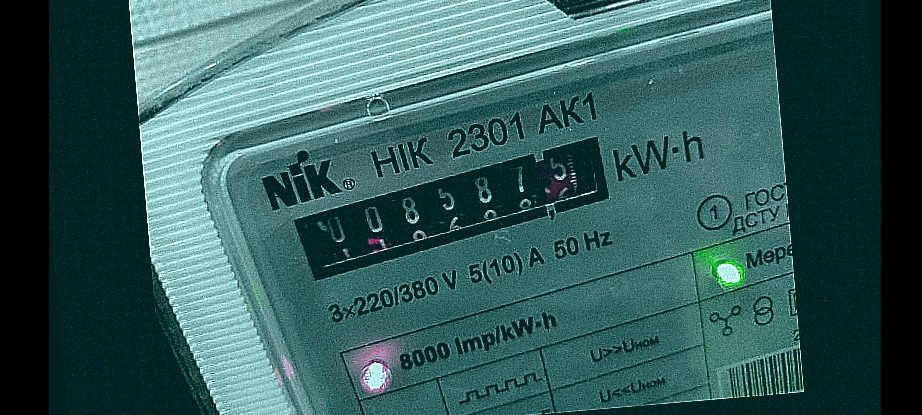0: (359, 199, 388, 235), (322, 210, 351, 244)
5: (434, 179, 459, 212), (546, 148, 570, 181)
6: (554, 183, 573, 201)
7: (508, 160, 532, 196)
8: (470, 170, 496, 205), (398, 191, 424, 225)
screen: (281, 132, 637, 283)
